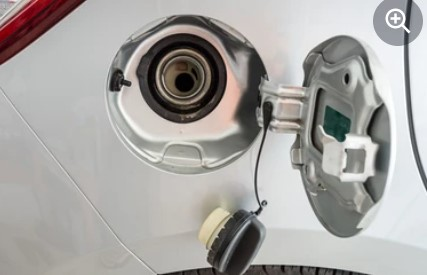open: (96, 9, 278, 164)
